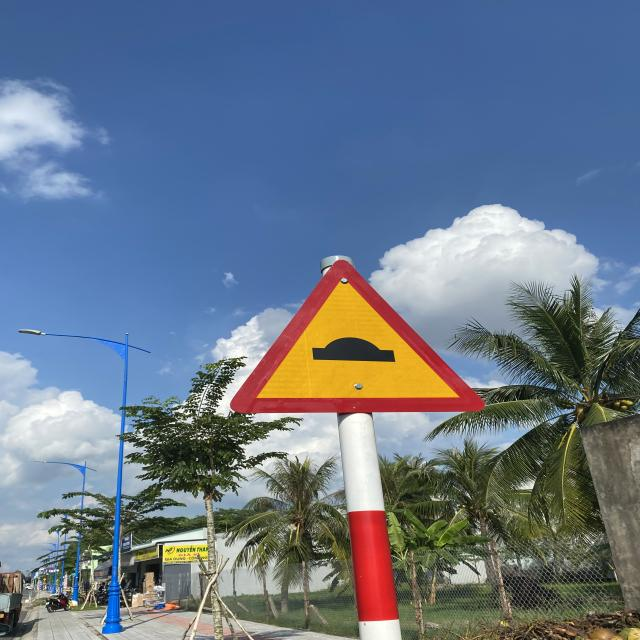Duong_Cong_Ben_Phai: (228, 260, 481, 412)
